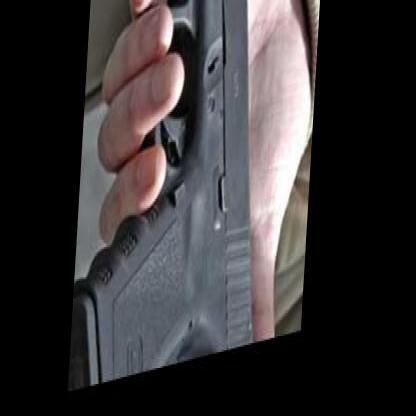pistol: (75, 0, 282, 391)
